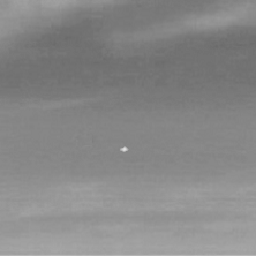Target: (118, 145, 129, 154)
